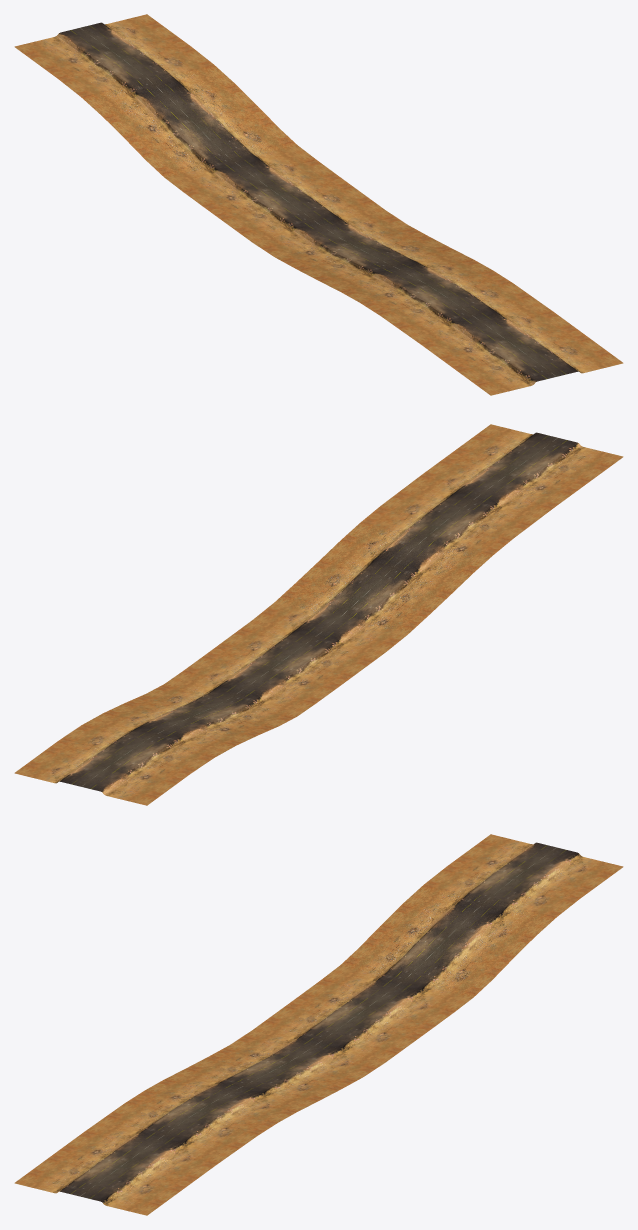
File: road-7DES-2.FBX
3 views of the same model, one above another, from view 1: azimuth 30°, elevation 25°; view 2: azimuth 150°, elevation 25°; view 3: azimuth 330°, elevation 25° (orthographic).
Parts seen in each view (by area): view 1: road038; view 2: road038; view 3: road038.
Part boxes in pixels (bbox=[...]): road038: bbox=[14, 14, 623, 395]; road038: bbox=[14, 424, 623, 805]; road038: bbox=[14, 834, 623, 1215].
Bounding box in the file's own units: 8770 × 1541 × 54414.
